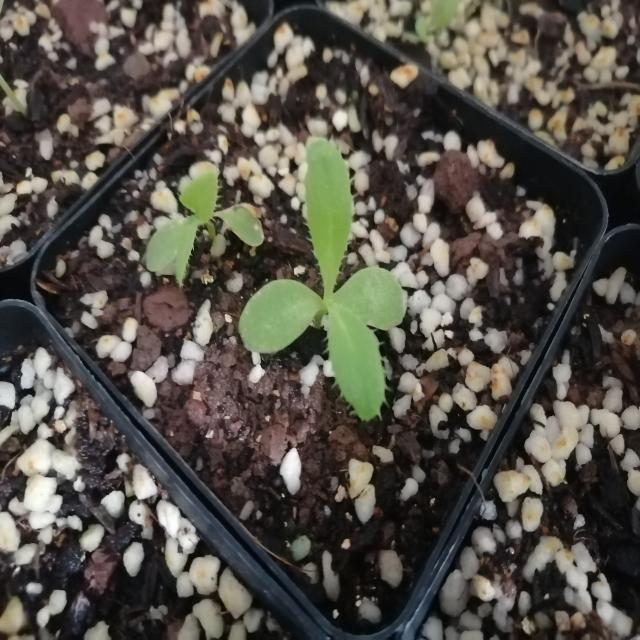field_thistle: (238, 120, 418, 435), (135, 151, 275, 274)
